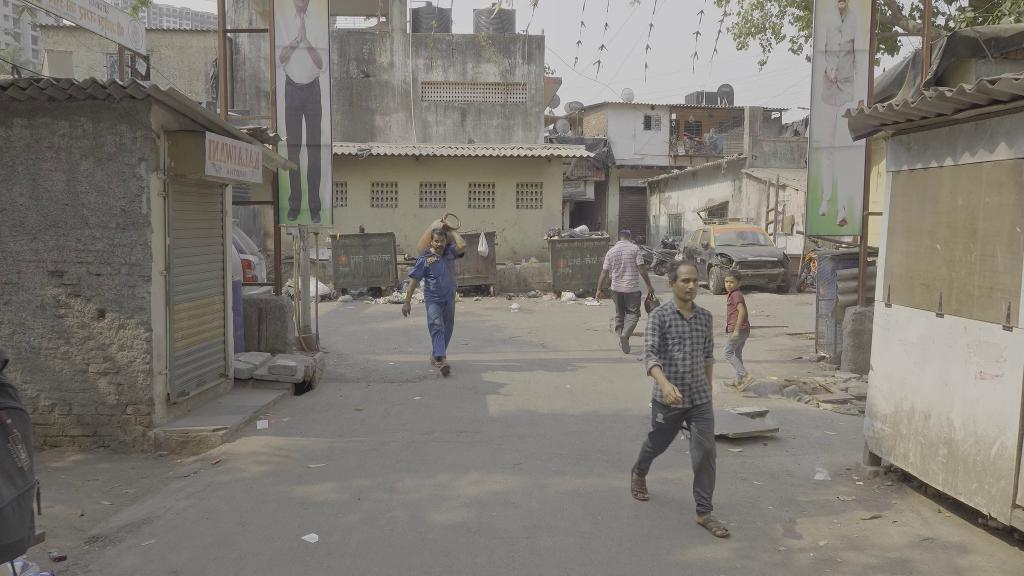dustbin: (329, 232, 397, 300), (545, 228, 609, 297)
garbage: (475, 231, 489, 261)
